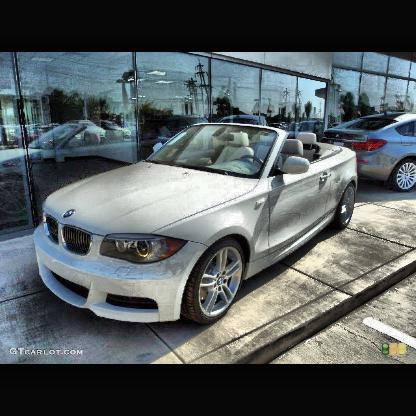BMW 1 Series Convertible 2012: (32, 122, 360, 329)
